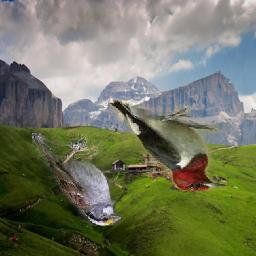Sparrow: (33, 134, 122, 227)
Woodpecker: (111, 101, 228, 192)
